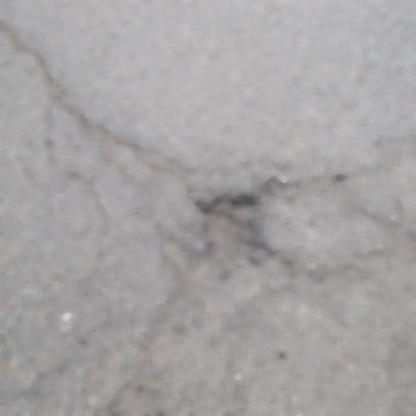Potholes: (208, 198, 259, 262)
